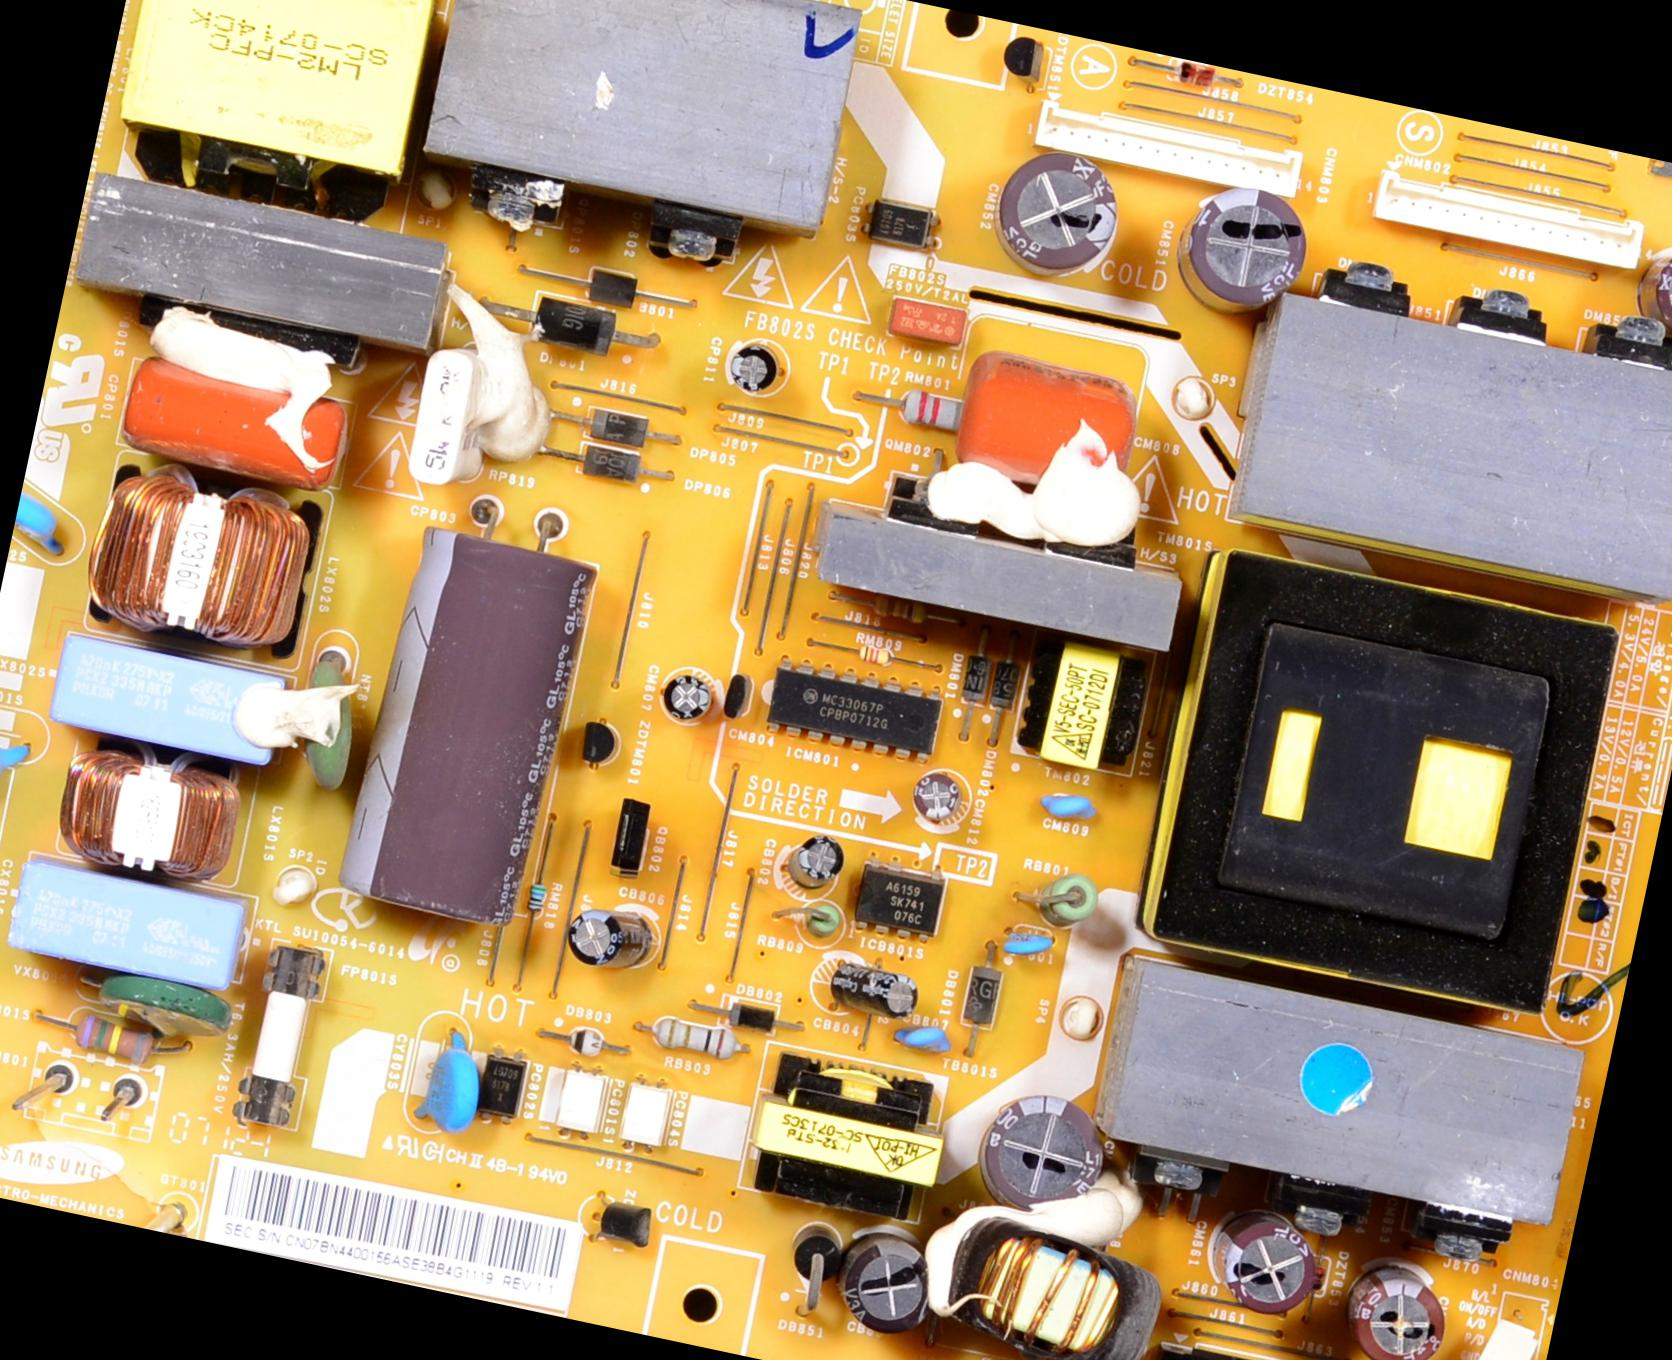Capacitor Jumper: (333, 515, 591, 937), (1172, 179, 1320, 323), (989, 140, 1127, 291), (973, 1088, 1120, 1221), (830, 1220, 948, 1346), (283, 648, 380, 795), (1217, 1207, 1328, 1325), (402, 1012, 495, 1142), (1345, 1264, 1457, 1359), (820, 949, 931, 1028), (562, 898, 660, 977), (7, 482, 80, 570), (654, 662, 723, 730), (0, 708, 35, 819), (722, 340, 783, 398), (787, 831, 845, 890), (1643, 236, 1671, 350), (1005, 917, 1059, 973), (912, 770, 964, 827)
Connector: (1374, 168, 1644, 272), (1032, 96, 1304, 196), (26, 1046, 160, 1139)
IC: (767, 651, 946, 766), (852, 855, 950, 941)
Resistor Jumper: (26, 998, 197, 1071), (845, 376, 989, 439), (802, 630, 948, 681), (631, 1006, 755, 1066), (1034, 865, 1104, 934)
